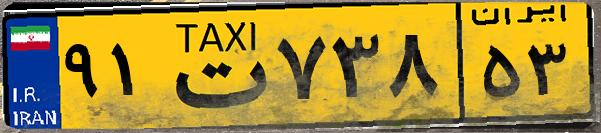1: (110, 28, 158, 98)
3: (330, 28, 385, 110), (525, 38, 570, 115)
5: (475, 38, 525, 113)
7: (270, 28, 330, 110)
8: (385, 28, 445, 110)
9: (57, 26, 110, 100)
ت: (158, 12, 270, 120)
